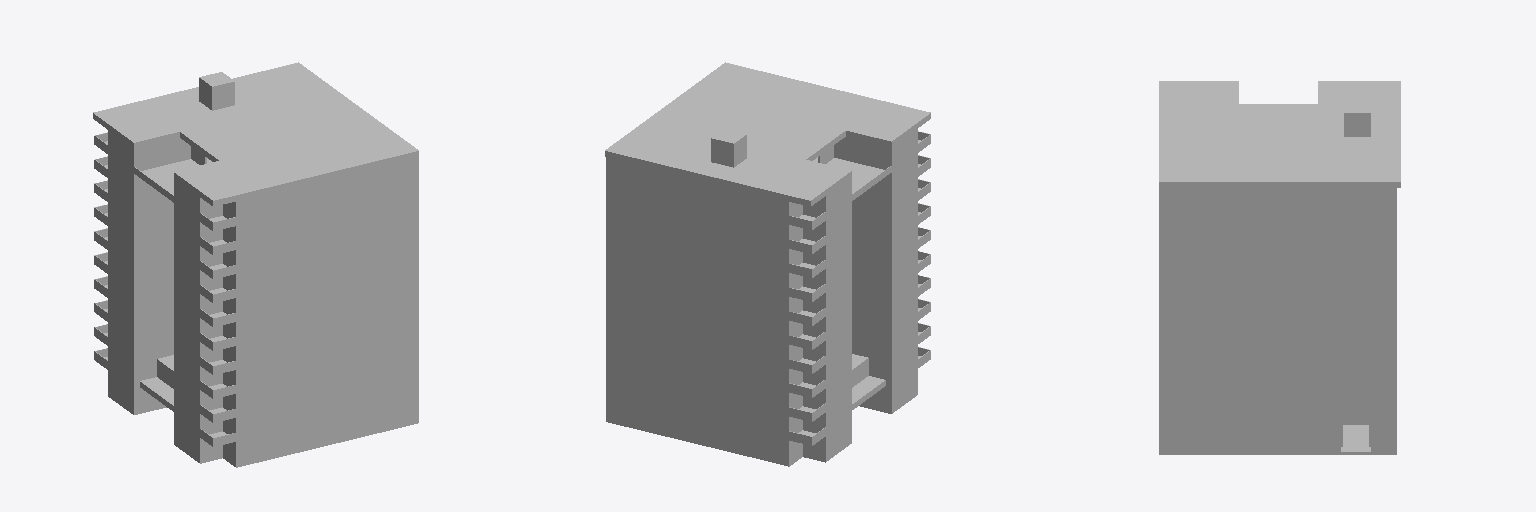
Rendered from spawn.obj.
The picture shows the model from 3 angles: view 1: azimuth 30°, elevation 25°; view 2: azimuth 150°, elevation 25°; view 3: azimuth 270°, elevation 25°; orthographic projection.
Visible parts, largest first — view 1: func_detail_9092; view 2: func_detail_9092; view 3: func_detail_9092.
Boxes of the visible parts, x1=… form: func_detail_9092: x1=93, y1=62, x2=418, y2=467; func_detail_9092: x1=605, y1=62, x2=930, y2=466; func_detail_9092: x1=1159, y1=81, x2=1400, y2=454.
Size of the model in its own units: 11.52 by 15.84 by 11.68.